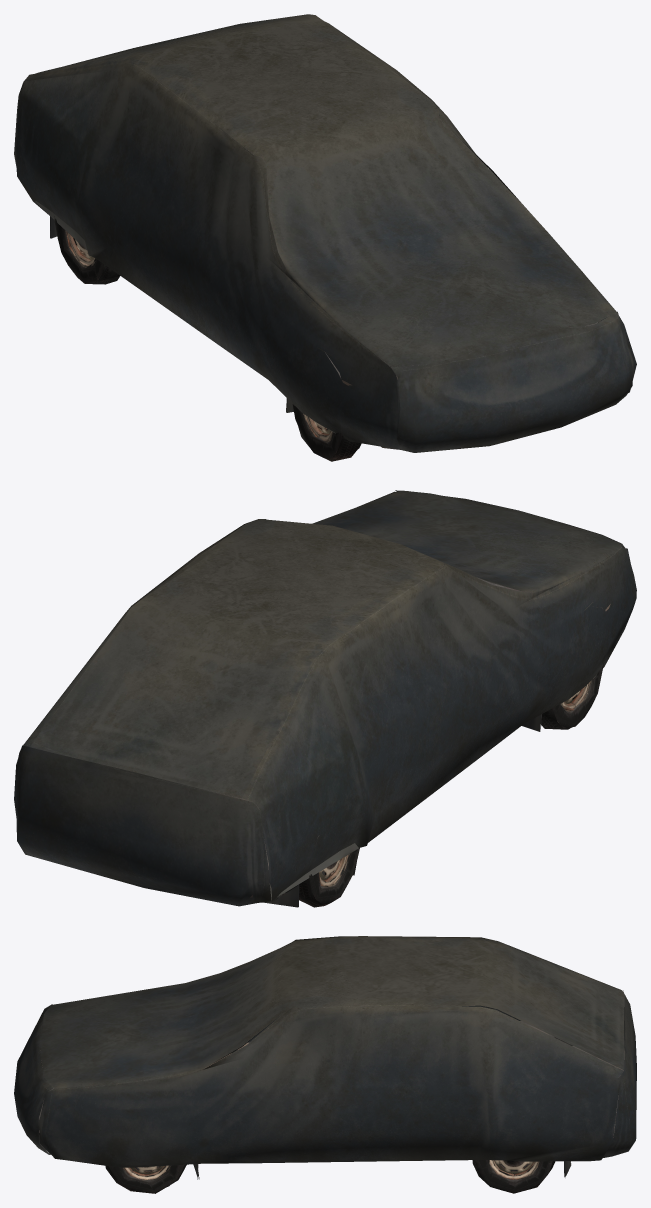
File: car.glb
The picture shows the model from 3 angles, top to bottom: view 1: azimuth 30°, elevation 25°; view 2: azimuth 150°, elevation 25°; view 3: azimuth 270°, elevation 25°; orthographic projection. The views are drawn at different scales.
Visible parts, largest first — view 1: covered_car; view 2: covered_car; view 3: covered_car.
Part boxes in pixels (left/top/right/bottom): covered_car: left=14, top=14, right=636, bottom=461; covered_car: left=14, top=490, right=636, bottom=907; covered_car: left=14, top=936, right=636, bottom=1193.
Size of the model in its own units: 1.8 by 1.41 by 4.37.
Materials: 2 (2 with a texture image).
